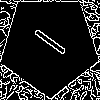I: (24, 20, 69, 58)
